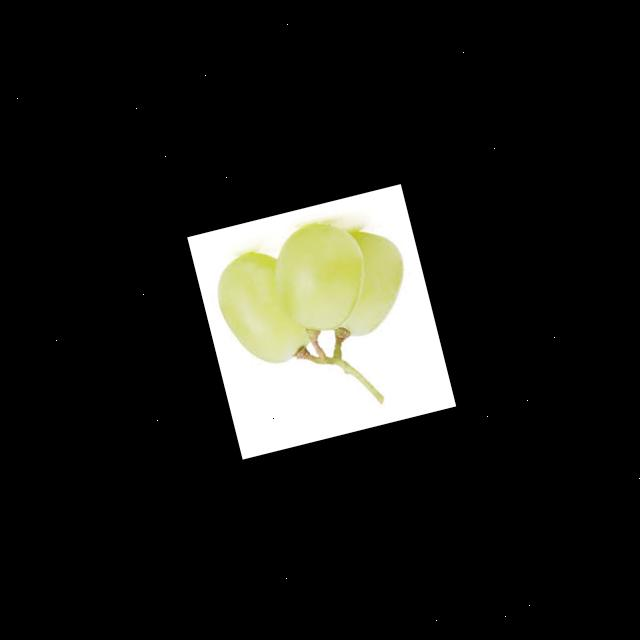grape: (205, 242, 312, 374)
